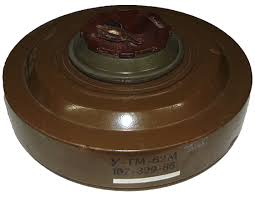car: (0, 0, 255, 192)
